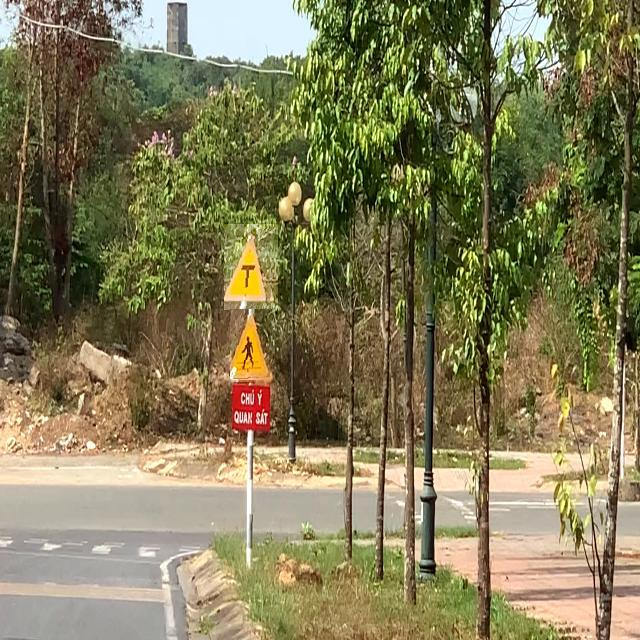W-205d: (224, 225, 278, 311)
W-224: (230, 310, 275, 382)
